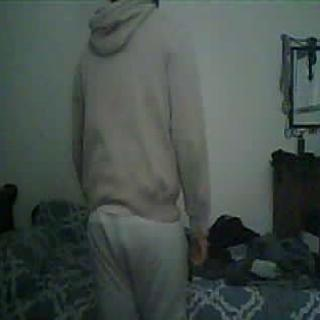White Sweatpants: (86, 218, 188, 320)
Yellow Hoodie: (74, 2, 202, 214)
